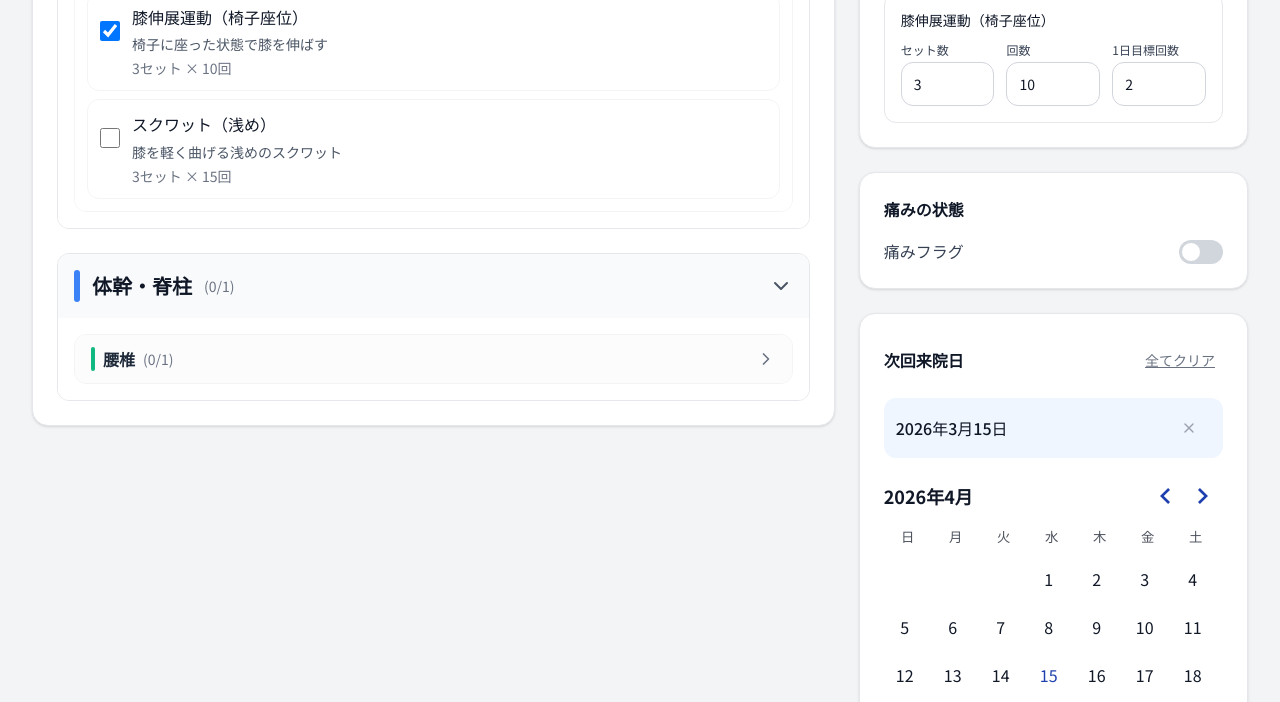
Scenario: S-06 ExerciseMenu › next visit date › should clear all dates when "全てクリア" button is clicked
(page scrolled)
expect the text "2026年3月15日" is shown: met, box [896,416,1008,440]
Click the button "全てクリア" at point(1180, 360), box [1137,338,1223,382]
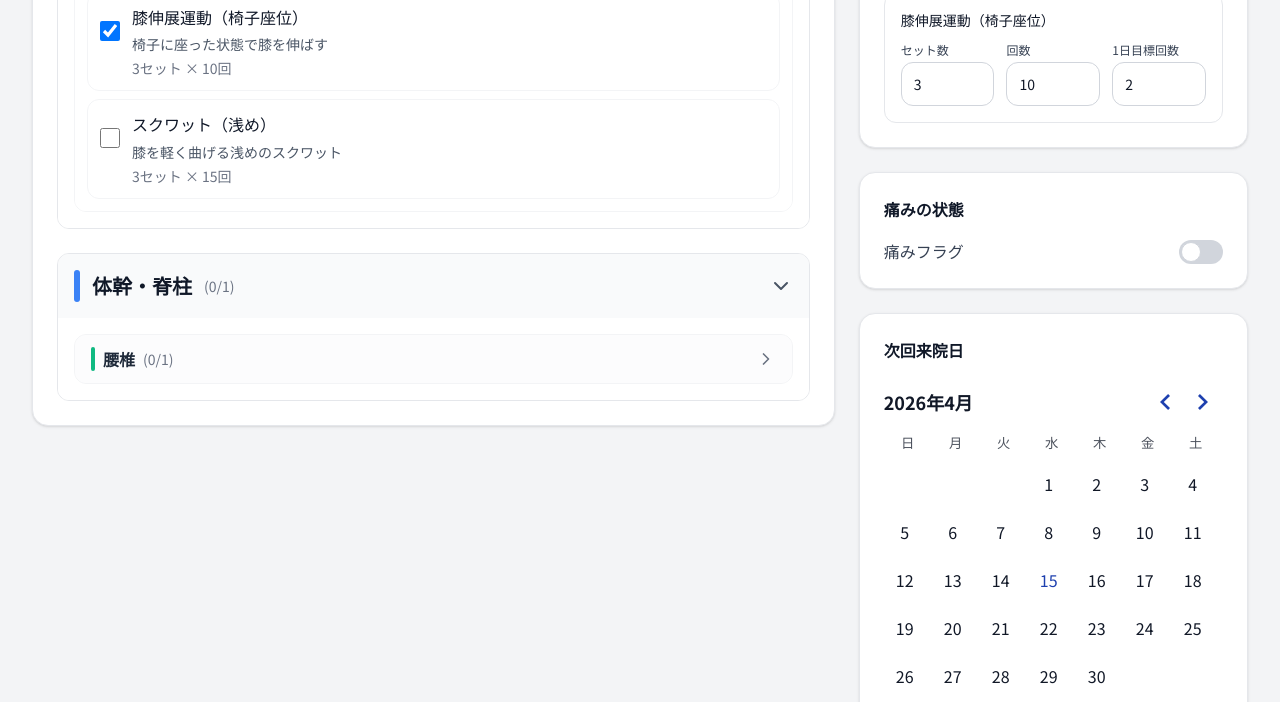
expect the text "2026年3月15日" is gone: met
